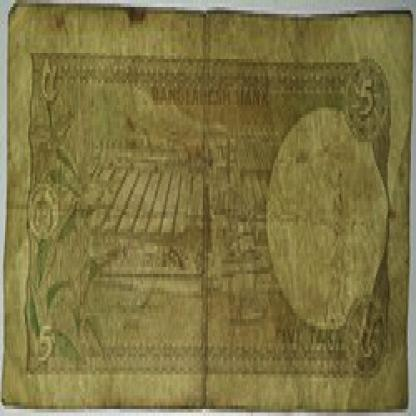Five Taka: (349, 66, 381, 149), (349, 298, 383, 375), (28, 305, 60, 381), (34, 41, 64, 118)
